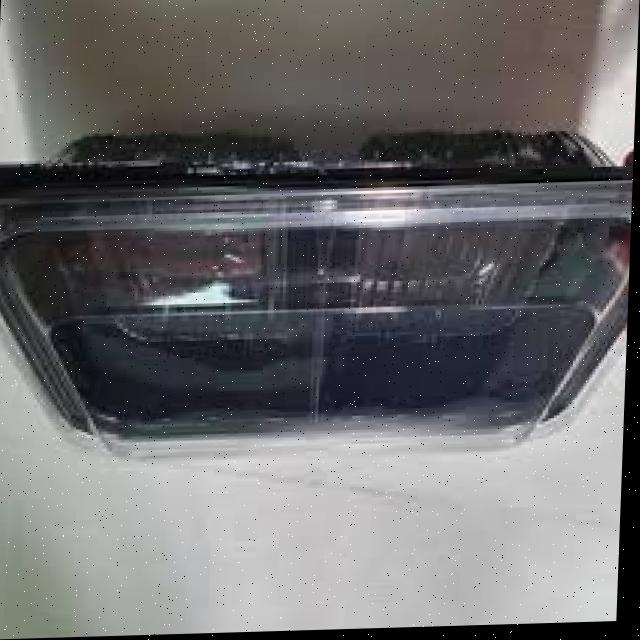disposable: (0, 130, 636, 480)
